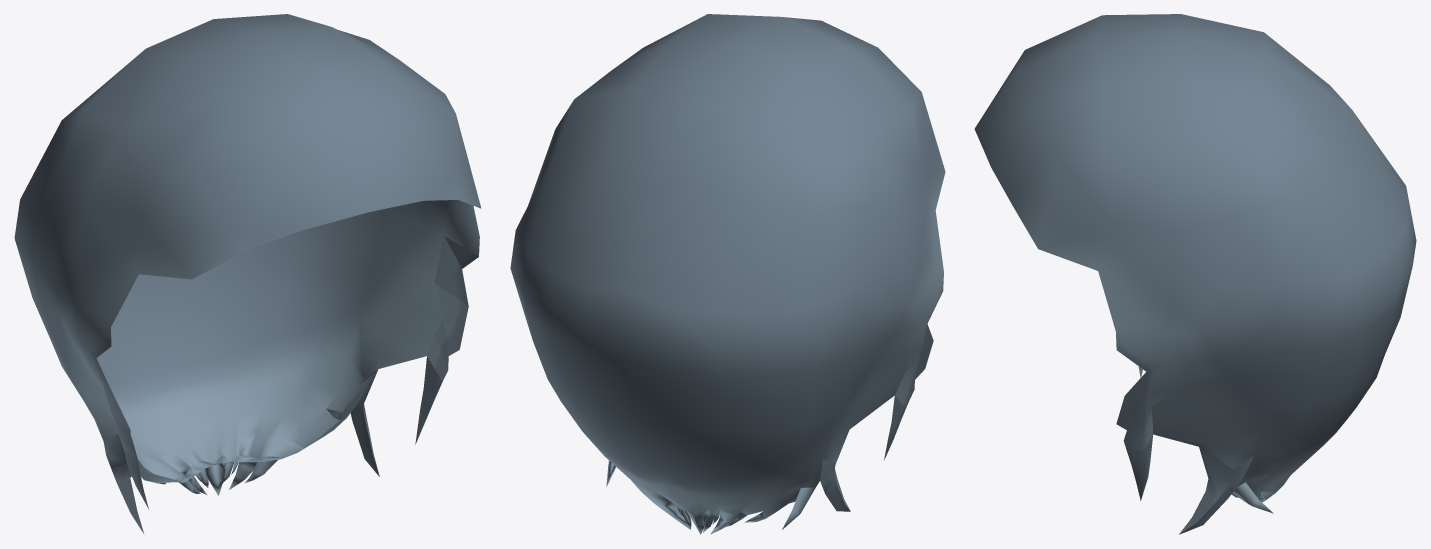
File: hair in.obj
3 renders of one model, left to right at view 1: azimuth 30°, elevation 25°; view 2: azimuth 150°, elevation 25°; view 3: azimuth 270°, elevation 25°, orthographic. The views are drawn at different scales.
Parts seen in each view (by area): view 1: Hair_BackUn_mtr_G11_V100.023; view 2: Hair_BackUn_mtr_G11_V100.023; view 3: Hair_BackUn_mtr_G11_V100.023.
Boxes of the visible parts, x1,y1,x2,y2 form: Hair_BackUn_mtr_G11_V100.023: (14,14,481,534); Hair_BackUn_mtr_G11_V100.023: (510,14,945,534); Hair_BackUn_mtr_G11_V100.023: (974,14,1416,534).
Size of the model in its own units: 0.1773 by 0.2173 by 0.187.
